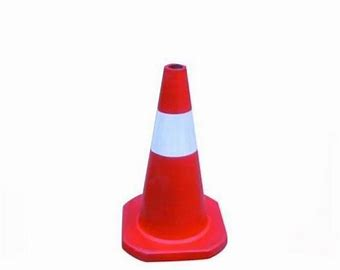traffic_cone: (80, 54, 238, 267)
